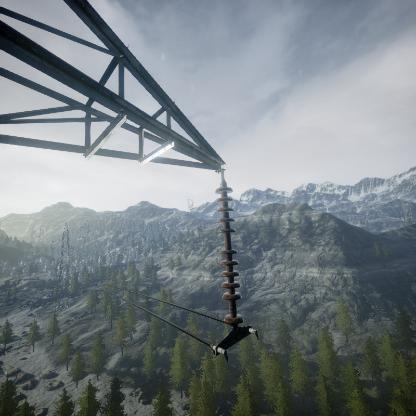insulator: (214, 181, 244, 324)
